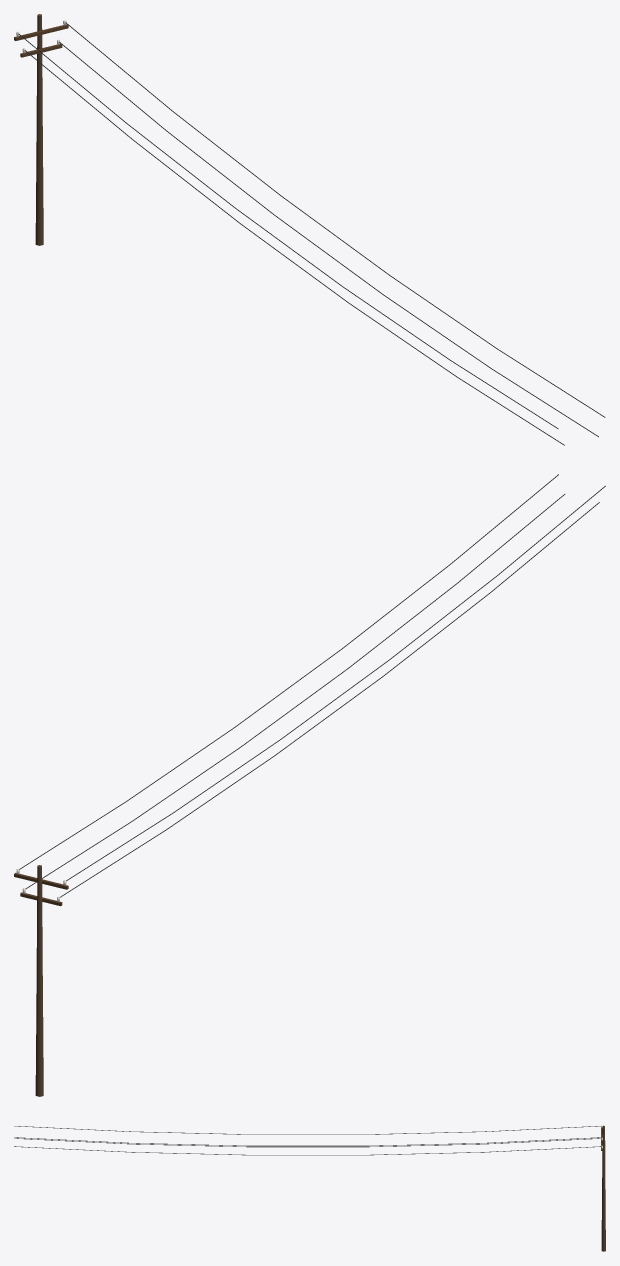
The model's file is telegraph_pole.glb.
3 renders of one model, top to bottom at view 1: azimuth 30°, elevation 25°; view 2: azimuth 150°, elevation 25°; view 3: azimuth 270°, elevation 25°, orthographic. The views are drawn at different scales.
Visible parts, largest first — view 1: Body; view 2: Body; view 3: Body.
Part boxes in pixels (<box>): Body: <box>14,14,605,445</box>; Body: <box>14,474,605,1096</box>; Body: <box>14,1125,605,1251</box>.
Size of the model in its own units: 1.7 by 7 by 30.2.
